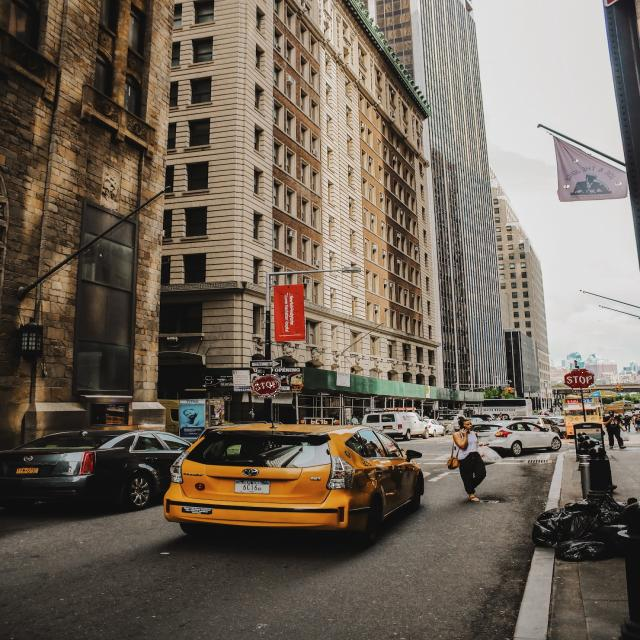stop: (252, 374, 281, 396), (564, 369, 596, 388)
